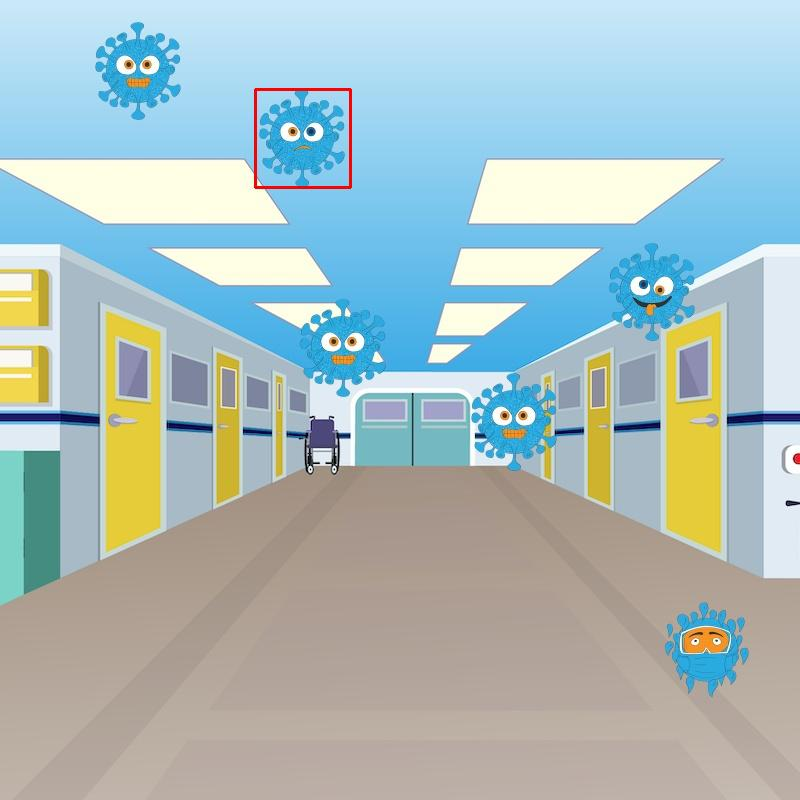corona1: (296, 296, 394, 400), (96, 21, 188, 126), (464, 371, 559, 472)
corona2: (257, 90, 350, 184)
corona3: (606, 231, 699, 346)
doctor: (661, 600, 750, 699)
